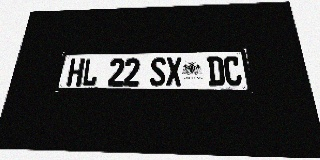2: (108, 58, 125, 86), (123, 58, 140, 86)
C: (223, 56, 243, 86)
D: (207, 56, 225, 86)
H: (66, 58, 85, 86)
L: (81, 58, 99, 86)
S: (150, 57, 166, 86)
X: (166, 57, 182, 86)
